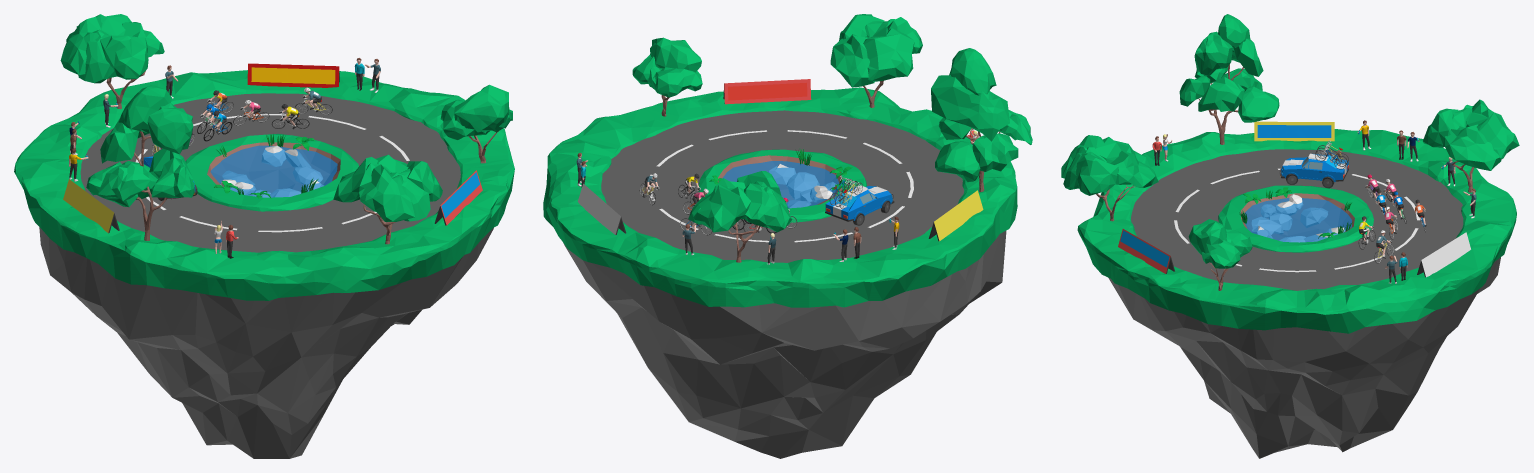
File: land_63.fbx
The picture shows the model from 3 angles, left to right: view 1: azimuth 30°, elevation 25°; view 2: azimuth 150°, elevation 25°; view 3: azimuth 270°, elevation 25°; orthographic projection. The views are drawn at different scales.
Parts seen in each view (by area): view 1: pCylinder48, land_63.099, land_63.128, land_63.138, land_63.135, land_63.129, land_63.122, land_63.080, land_63.109; view 2: pCylinder48, land_63.099, land_63.138, land_63.128, land_63.129, land_63.135, land_63.109, land_63.125, land_63.080, land_63.122, land_63.082; view 3: pCylinder48, land_63.099, land_63.128, land_63.138, land_63.135, land_63.129, land_63.125, land_63.080, land_63.109, land_63.122.
Part boxes in pixels (left/top/right/bottom): pCylinder48: left=14, top=70, right=514, bottom=458; land_63.099: left=86, top=85, right=194, bottom=240; land_63.128: left=60, top=14, right=164, bottom=109; land_63.138: left=333, top=154, right=442, bottom=244; land_63.135: left=210, top=145, right=337, bottom=197; land_63.129: left=440, top=84, right=512, bottom=163; land_63.122: left=247, top=63, right=339, bottom=87; land_63.080: left=63, top=179, right=119, bottom=233; land_63.109: left=434, top=170, right=482, bottom=225; pCylinder48: left=543, top=87, right=1017, bottom=458; land_63.099: left=931, top=48, right=1032, bottom=192; land_63.138: left=830, top=14, right=922, bottom=107; land_63.128: left=688, top=171, right=792, bottom=262; land_63.129: left=632, top=37, right=702, bottom=116; land_63.135: left=722, top=161, right=838, bottom=208; land_63.109: left=723, top=79, right=811, bottom=104; land_63.125: left=825, top=185, right=894, bottom=225; land_63.080: left=928, top=190, right=983, bottom=241; land_63.122: left=577, top=183, right=626, bottom=234; land_63.082: left=786, top=172, right=819, bottom=199; pCylinder48: left=1077, top=129, right=1516, bottom=458; land_63.099: left=1179, top=14, right=1279, bottom=144; land_63.128: left=1423, top=99, right=1519, bottom=192; land_63.138: left=1061, top=135, right=1158, bottom=221; land_63.135: left=1244, top=198, right=1351, bottom=242; land_63.129: left=1188, top=219, right=1252, bottom=290; land_63.125: left=1279, top=153, right=1348, bottom=188; land_63.080: left=1254, top=121, right=1334, bottom=141; land_63.109: left=1118, top=229, right=1174, bottom=273; land_63.122: left=1417, top=232, right=1470, bottom=277.
Size of the model in its own units: 24.2 by 22.35 by 24.88.
